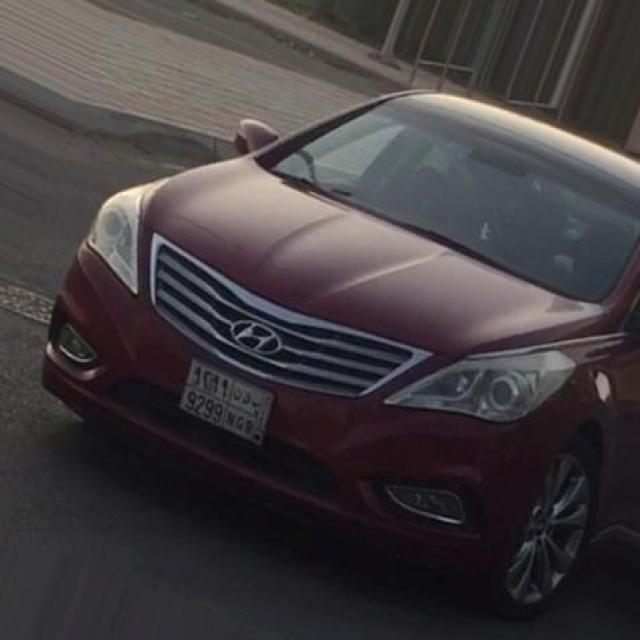Car-plate: (171, 341, 290, 456)
